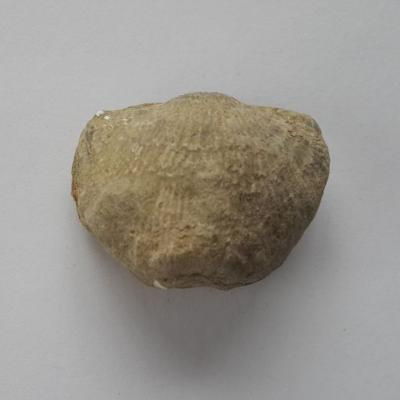natural_science_collection: (70, 92, 331, 292)
